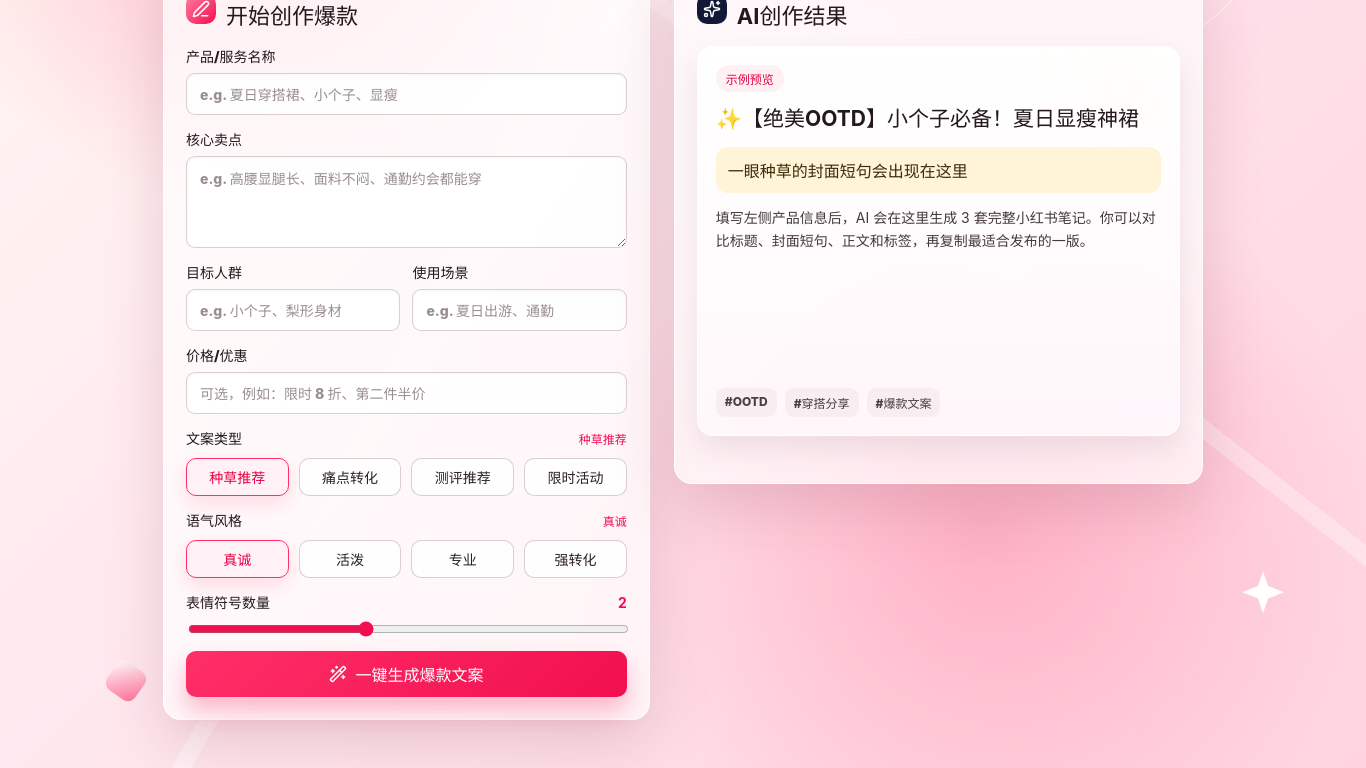
Test: App › requires product fields before generating copy
(page scrolled)
Click the button "一键生成爆款文案".
click(406, 674)  # box [186,651,627,697]
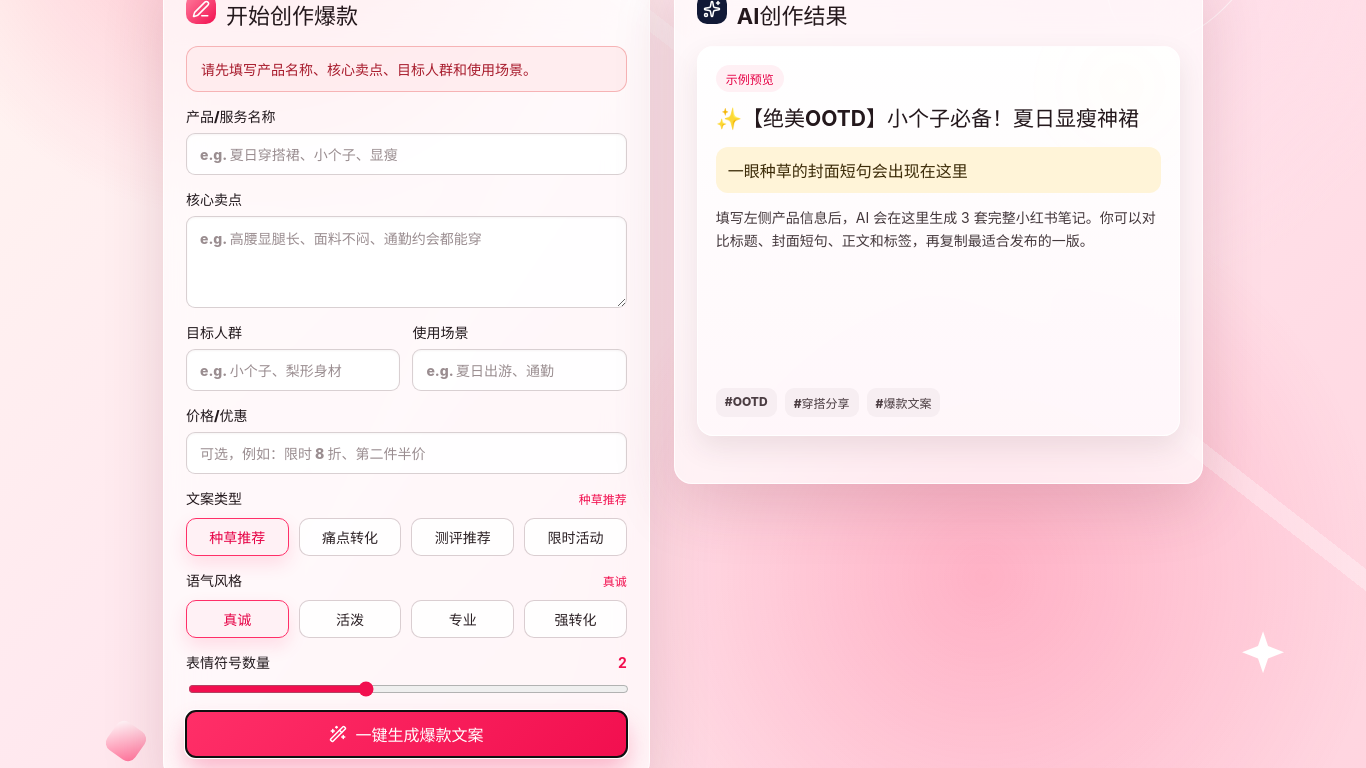
Expected: the heading "开始创作爆款" is shown, [226,3,358,30]
Now the text "请先填写产品名称、核心卖点、目标人群和使用场景。" is shown, box [186,46,627,92]
